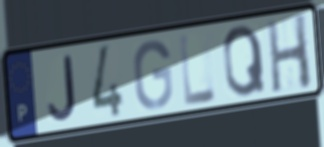4: (89, 41, 127, 122)
G: (131, 37, 175, 112)
H: (264, 11, 314, 96)
J: (45, 52, 78, 123)
L: (177, 30, 219, 109)
Q: (221, 22, 268, 100)
